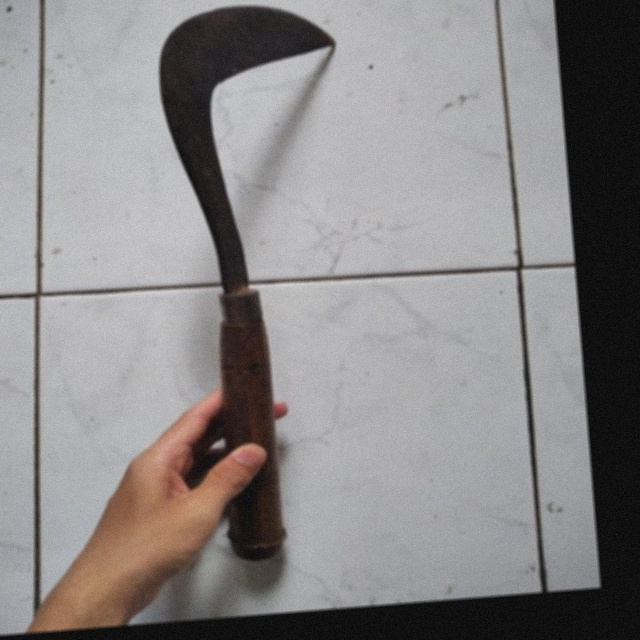Sharp-Object: (131, 0, 393, 593)
